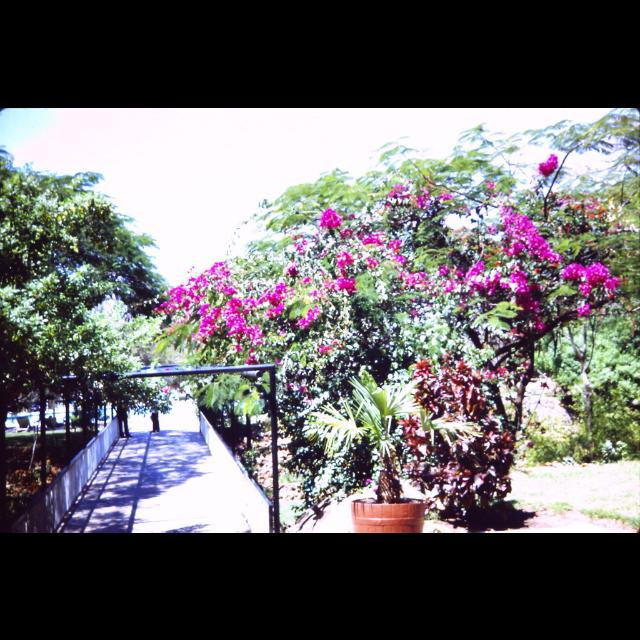Flower: (127, 176, 623, 394), (540, 157, 556, 175)
